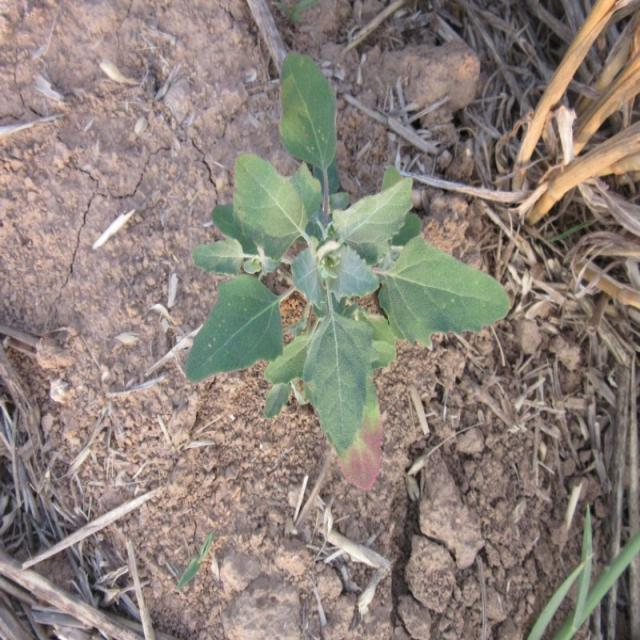ca: (183, 51, 510, 447)
